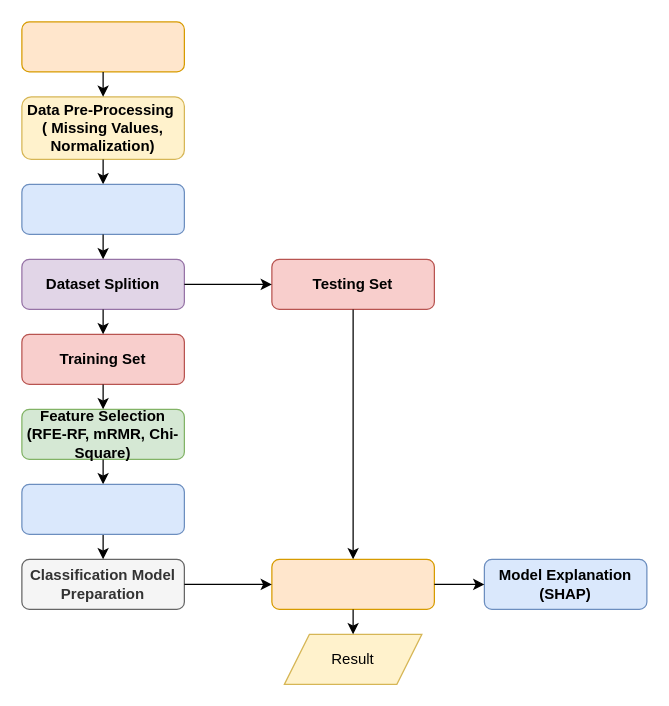
This 669x706 diagram has some shape labels left out. Each missing label, with the centre of its shape:
Classification Model: the point at 352,583
Data Collection: the point at 102,46
Outlier Removal (iForest): the point at 102,208
Oversampling (SMOTE): the point at 102,508
